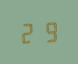nine: (39, 19, 58, 42)
two: (19, 21, 38, 44)
